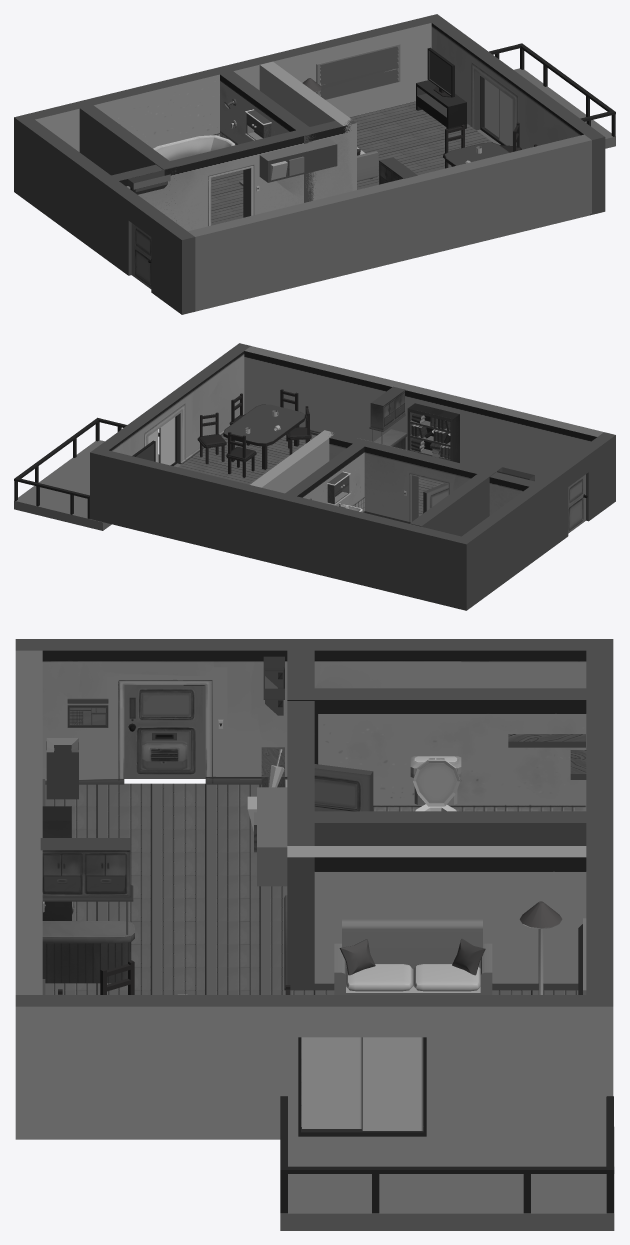
Rendered from Final_Apartment_M.fbx.
The picture shows the model from 3 angles, top to bottom: view 1: azimuth 30°, elevation 25°; view 2: azimuth 150°, elevation 25°; view 3: azimuth 270°, elevation 25°; orthographic projection. The views are drawn at different scales.
Parts seen in each view (by area): view 1: polySurface8, polySurface4, polySurface7, polySurface5, wall_7, Floor_Apartment, polySurface2, Shutter_window, Balcony, pCube27, Slidy_Door, TV_Stand (+8 smaller); view 2: polySurface4, polySurface8, polySurface7, wall_7, polySurface5, Balcony, Floor_Apartment, BookShelf, Living_Room_Table, polySurface2, polySurface14, Slidy_Door (+6 smaller); view 3: wall_7, polySurface4, polySurface7, Floor_Apartment, Balcony, polySurface2, Slidy_Door, Sofa, polySurface14, polySurface8, polySurface5, Front_Door (+8 smaller).
Boxes of the visible parts, bbox=[...] form: polySurface8: bbox=[188, 134, 591, 311]; polySurface4: bbox=[27, 17, 431, 220]; polySurface7: bbox=[14, 114, 195, 314]; polySurface5: bbox=[111, 119, 356, 231]; wall_7: bbox=[424, 14, 605, 215]; Floor_Apartment: bbox=[211, 101, 492, 225]; polySurface2: bbox=[259, 61, 356, 190]; Shutter_window: bbox=[316, 44, 400, 99]; Balcony: bbox=[476, 43, 615, 148]; pCube27: bbox=[259, 138, 337, 182]; Slidy_Door: bbox=[480, 76, 512, 145]; TV_Stand: bbox=[416, 80, 466, 129]; polySurface4: bbox=[101, 439, 495, 607]; polySurface8: bbox=[244, 346, 603, 481]; polySurface7: bbox=[454, 432, 615, 610]; wall_7: bbox=[90, 343, 250, 521]; polySurface5: bbox=[329, 432, 535, 523]; Balcony: bbox=[14, 417, 181, 530]; Floor_Apartment: bbox=[178, 434, 443, 516]; BookShelf: bbox=[407, 403, 459, 462]; Living_Room_Table: bbox=[223, 404, 305, 469]; polySurface2: bbox=[250, 430, 333, 493]; polySurface14: bbox=[369, 386, 407, 449]; Slidy_Door: bbox=[148, 416, 177, 465]; wall_7: bbox=[15, 995, 613, 1139]; polySurface4: bbox=[287, 650, 613, 994]; polySurface7: bbox=[15, 639, 613, 784]; Floor_Apartment: bbox=[45, 783, 578, 1126]; Balcony: bbox=[280, 1096, 614, 1230]; polySurface2: bbox=[287, 846, 586, 990]; Slidy_Door: bbox=[298, 1037, 426, 1136]; Sofa: bbox=[334, 919, 492, 994]; polySurface14: bbox=[40, 838, 134, 983]; polySurface8: bbox=[15, 650, 45, 994]; polySurface5: bbox=[284, 650, 314, 990]; Front_Door: bbox=[124, 685, 205, 778].
Bounding box in the file's own units: 19.24 × 3.07 × 11.02.
